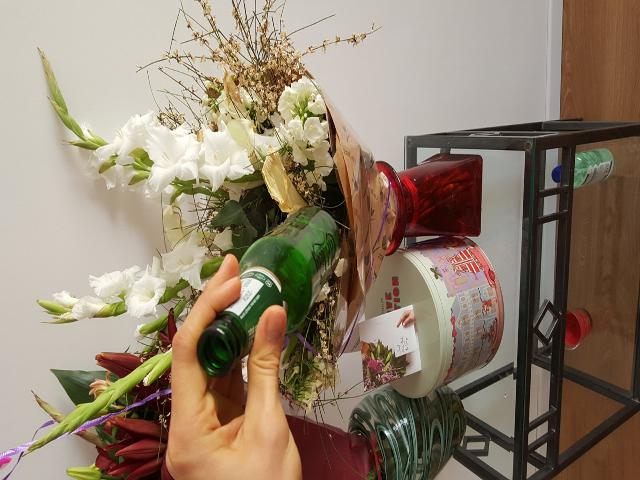beer: (196, 207, 339, 374)
